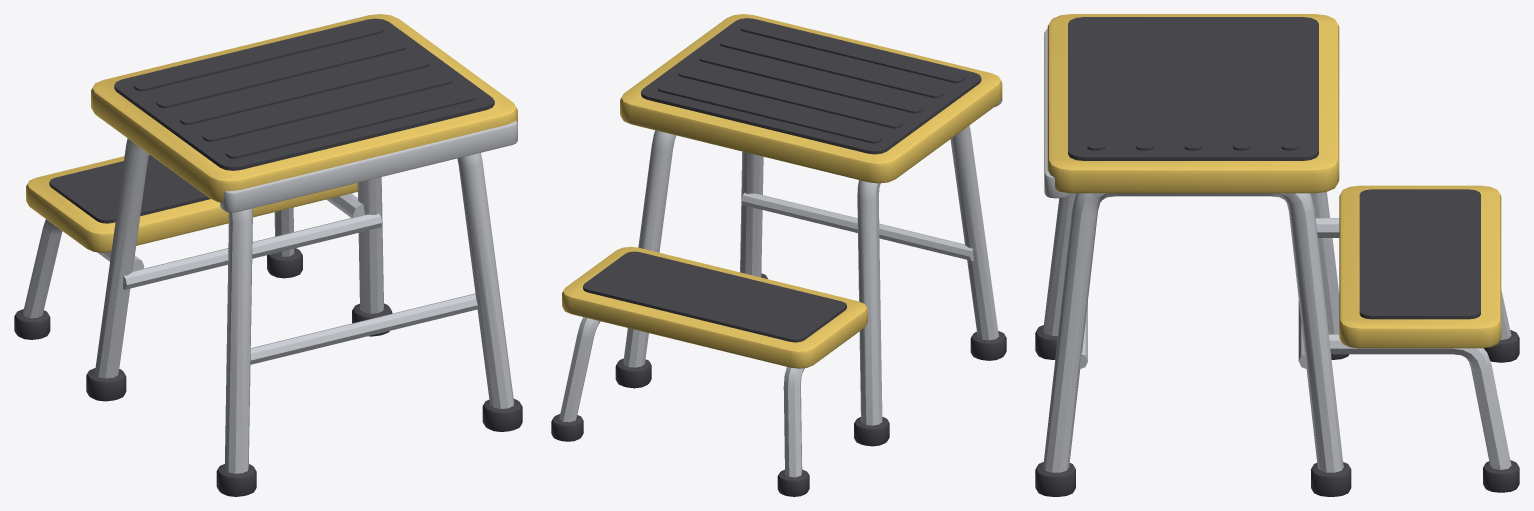
File: SM_AnimalStool45.fbx
The picture shows the model from 3 angles, left to right: view 1: azimuth 30°, elevation 25°; view 2: azimuth 150°, elevation 25°; view 3: azimuth 270°, elevation 25°; orthographic projection. The views are drawn at different scales.
Visible parts, largest first — view 1: AnimalStool45; view 2: AnimalStool45; view 3: AnimalStool45.
Boxes of the visible parts, x1,y1,x2,y2 form: AnimalStool45: [14, 14, 522, 496]; AnimalStool45: [551, 14, 1006, 496]; AnimalStool45: [1035, 14, 1519, 496].
Bounding box in the file's own units: 0.46 × 0.458 × 0.5975.
